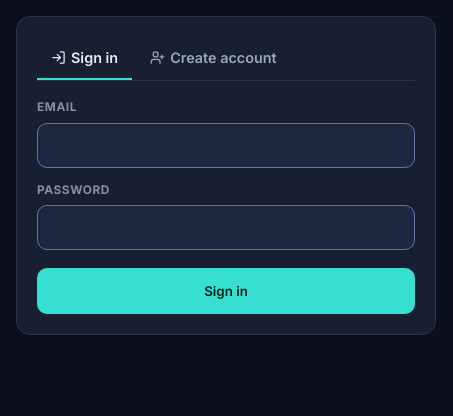
Test case: AuthPanel — sign in › blocks an invalid email with a validation message and sends no request
Type "not-an-email" into the field labelled "Email".
click(226, 145); type("not-an-email")  # box [37,123,415,168]
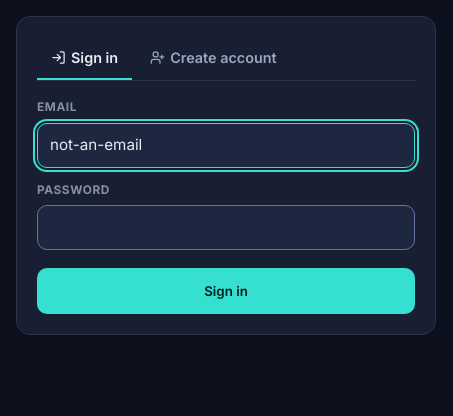
Type "password123" into the password field labelled "Password".
click(226, 228); type("password123")  # box [37,205,415,250]
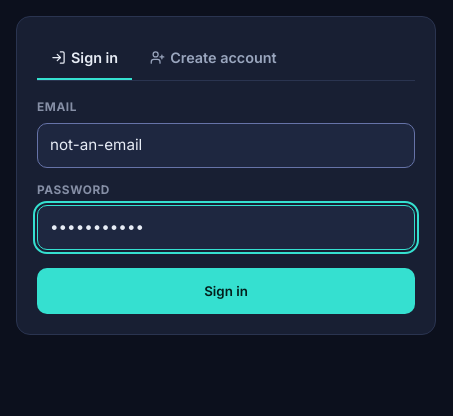
Click the button "Sign in" below "Password".
click(226, 291)  # box [37,268,415,314]
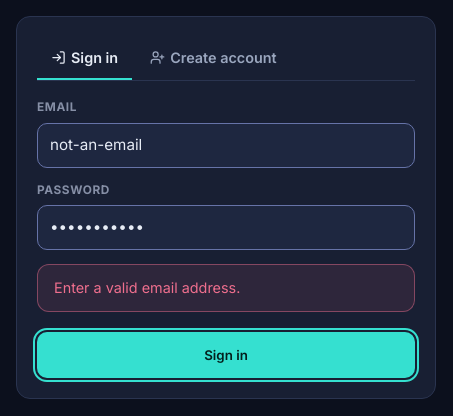
Result: the text "Enter a valid email address." is shown at [37,264,415,312]
